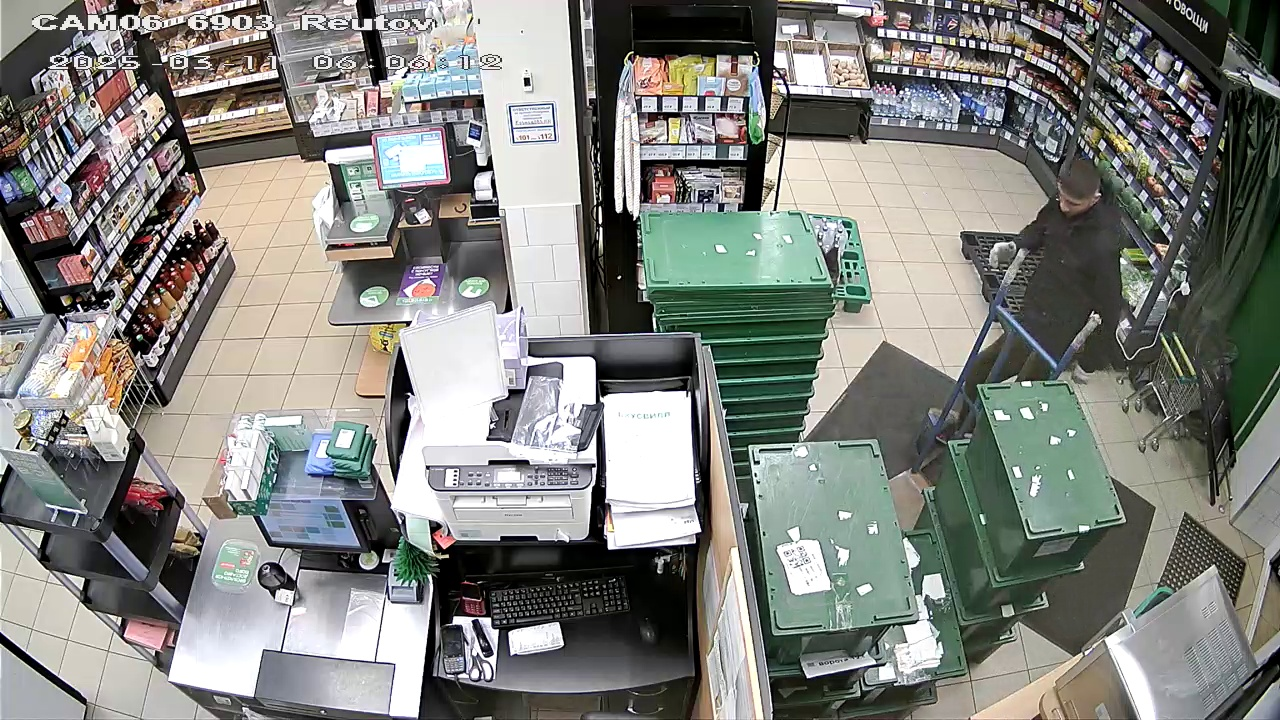Human: (954, 149, 1117, 446)
pallet: (945, 220, 1124, 341)
